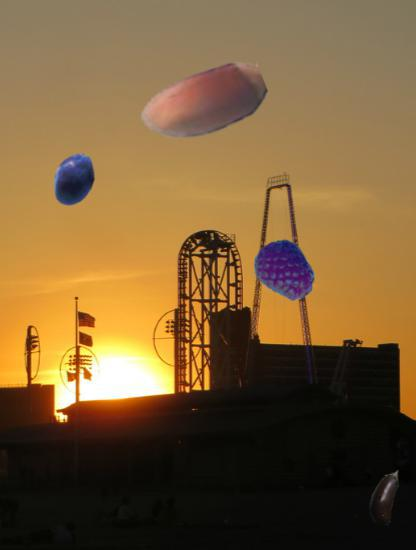Eggplant: (356, 470, 414, 528)
Hazelnut: (137, 38, 269, 170)
Plum: (46, 151, 103, 208)
Raspberry: (251, 239, 318, 306)
